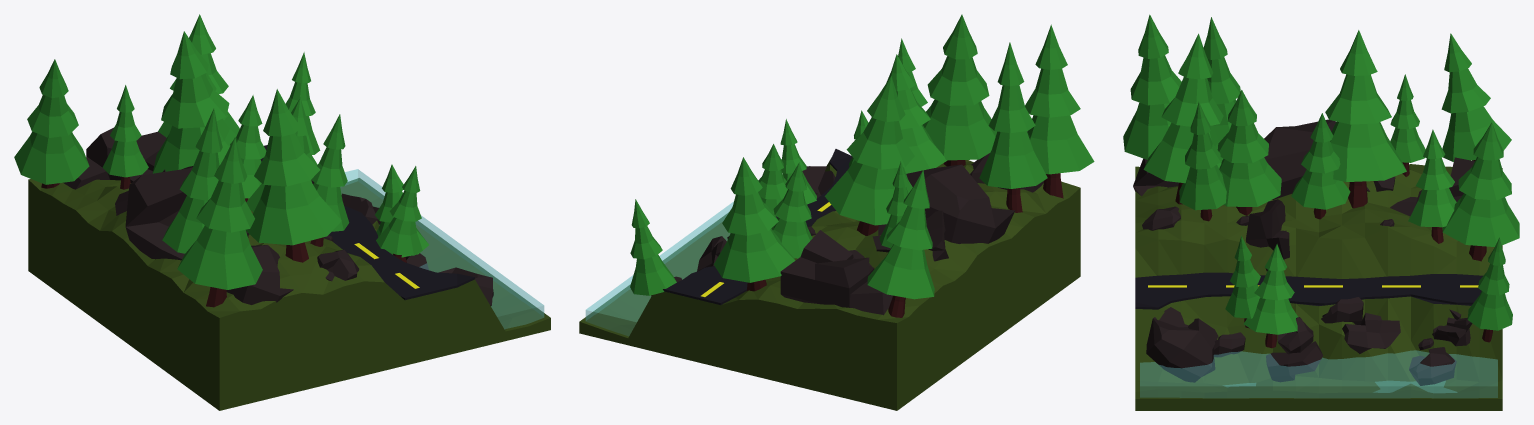
The model's file is dracoForest2.glb.
3 renders of one model, left to right at view 1: azimuth 30°, elevation 25°; view 2: azimuth 150°, elevation 25°; view 3: azimuth 270°, elevation 25°, orthographic. The views are drawn at different scales.
Visible parts, largest first — view 1: Terrain, Tree, Tree.010, Tree.002, Tree.005, Water, Rock.014, Road, Tree.011, Tree.003, Tree.009, Tree.012 (+10 smaller); view 2: Terrain, Tree.002, Tree, Tree.010, Rock.001, Tree.006, Tree.011, Tree.005, Rock.014, Water, Road, Tree.001 (+9 smaller); view 3: Terrain, Water, Road, Tree.002, Tree.006, Tree, Tree.001, Tree.010, Tree.005, Rock.004, Tree.009, Tree.008 (+19 smaller).
Boxes of the visible parts, box(x1,y1,x2,y2) form: Terrain: box(28, 178, 550, 410); Tree: box(246, 89, 341, 262); Tree.010: box(177, 137, 262, 307); Tree.002: box(152, 31, 236, 173); Tree.005: box(14, 59, 89, 188); Water: box(340, 169, 544, 328); Rock.014: box(125, 166, 249, 260); Road: box(260, 145, 474, 300); Tree.011: box(162, 108, 222, 253); Tree.003: box(102, 85, 148, 189); Tree.009: box(310, 114, 349, 246); Tree.012: box(376, 166, 422, 259); Terrain: box(579, 157, 1080, 410); Tree.002: box(824, 76, 914, 235); Tree: box(923, 14, 997, 166); Tree.010: box(1025, 24, 1094, 198); Rock.001: box(780, 230, 892, 315); Tree.006: box(714, 157, 795, 291); Tree.011: box(979, 42, 1047, 212); Tree.005: box(867, 170, 934, 317); Rock.014: box(906, 164, 1015, 243); Water: box(585, 201, 733, 335); Road: box(663, 149, 852, 305); Tree.001: box(886, 54, 947, 173); Terrain: box(1135, 164, 1502, 410); Water: box(1140, 350, 1497, 397); Road: box(1135, 272, 1482, 309); Tree.002: box(1325, 30, 1406, 208); Tree.006: box(1442, 122, 1519, 261); Tree: box(1143, 33, 1223, 204); Tree.001: box(1217, 90, 1281, 215); Tree.010: box(1123, 14, 1181, 159); Tree.005: box(1441, 33, 1511, 161); Rock.004: box(1146, 307, 1218, 382); Tree.009: box(1179, 101, 1226, 221); Tree.008: box(1291, 113, 1350, 219).
Bounding box in the file's own units: 8.55 × 6.38 × 8.64.
